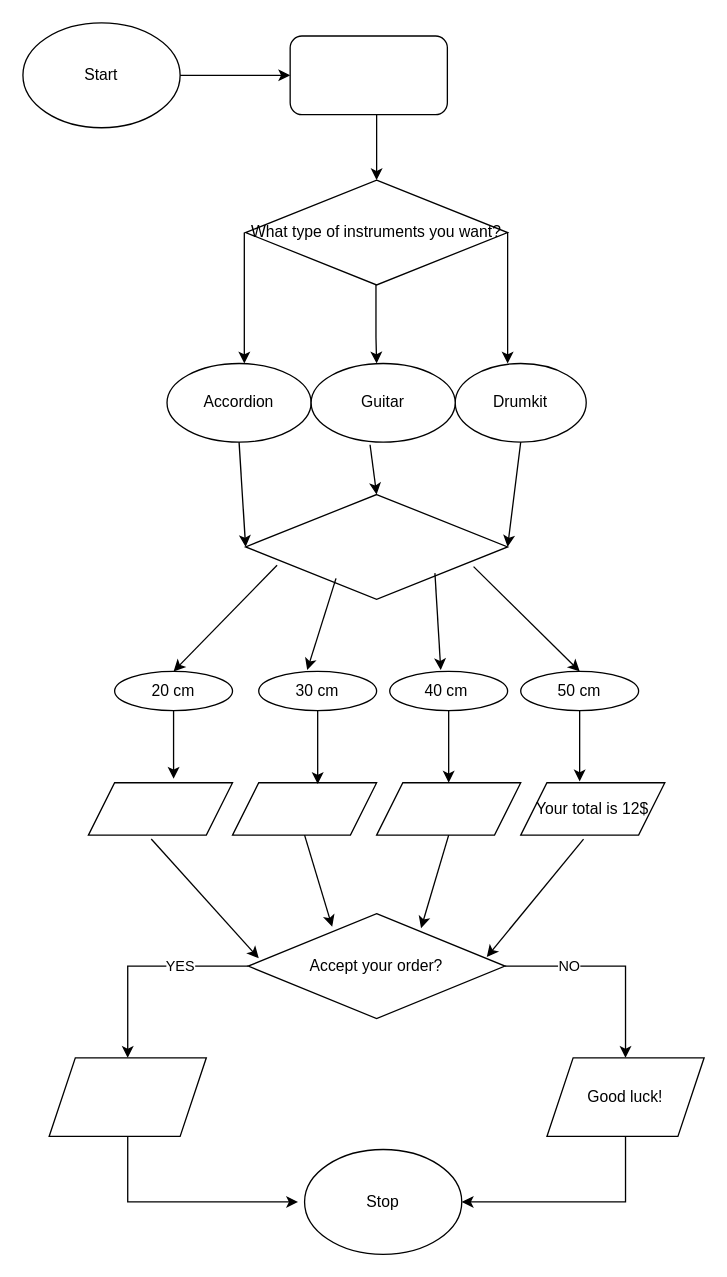
The diagram is 727 pixels wide and 1277 high, and some of its shapes have lost their labels. The centre of each missing label's shape, as x and y in pixels:
"Instruments" belongs at (368,75).
"Thanks for order!" belongs at (127,1096).
"What size you want?" belongs at (376,546).
"Your total is 10$" belongs at (448,808).
"Your total is 6$" belongs at (160,808).
"Your total is 8$" belongs at (304,808).
